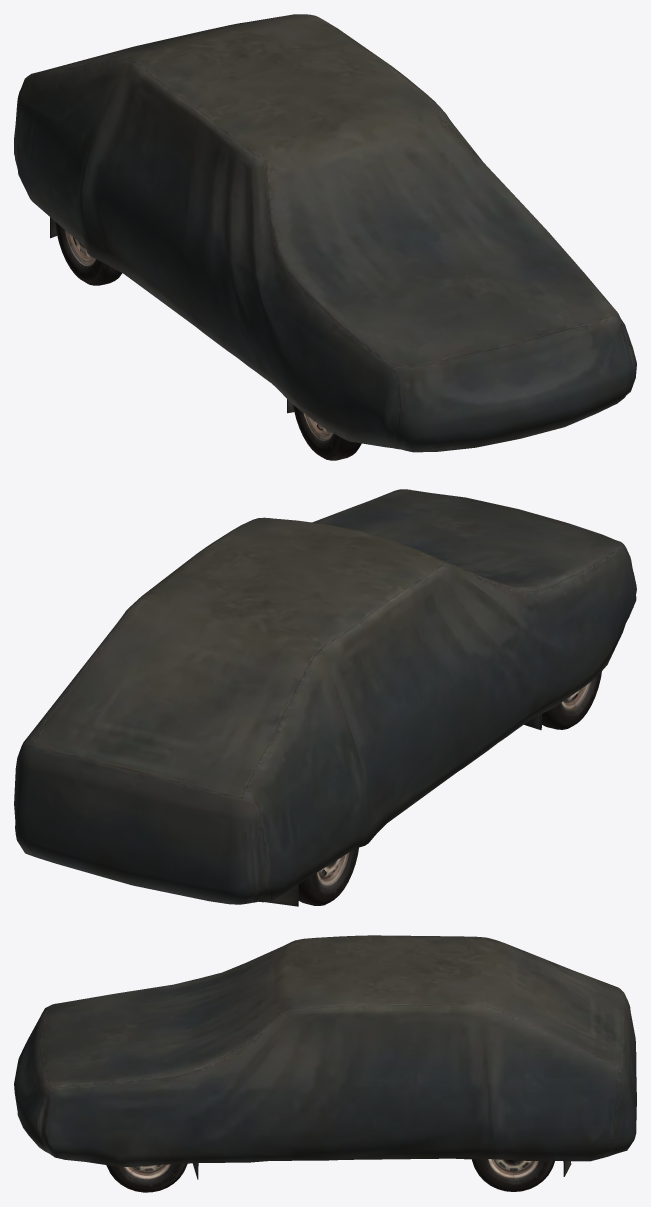
File: covered_car.glb
3 views of the same model, one above another, from view 1: azimuth 30°, elevation 25°; view 2: azimuth 150°, elevation 25°; view 3: azimuth 270°, elevation 25° (orthographic). The views are drawn at different scales.
Parts seen in each view (by area): view 1: covered_car, covered_car_wheel_03, covered_car_wheel_02; view 2: covered_car, covered_car_wheel_03, covered_car_wheel_02; view 3: covered_car, covered_car_wheel_04, covered_car_wheel_01.
Part boxes in pixels (bbox=[...]): covered_car: bbox=[14, 14, 636, 452]; covered_car_wheel_03: bbox=[55, 222, 122, 285]; covered_car_wheel_02: bbox=[293, 405, 361, 460]; covered_car: bbox=[14, 489, 636, 906]; covered_car_wheel_03: bbox=[298, 847, 358, 905]; covered_car_wheel_02: bbox=[542, 671, 601, 729]; covered_car: bbox=[14, 935, 636, 1179]; covered_car_wheel_04: bbox=[472, 1159, 554, 1191]; covered_car_wheel_01: bbox=[106, 1163, 187, 1192].
Bounding box in the file's own units: 1.79 × 1.41 × 4.38.
Materials: 1 (1 with a texture image).
